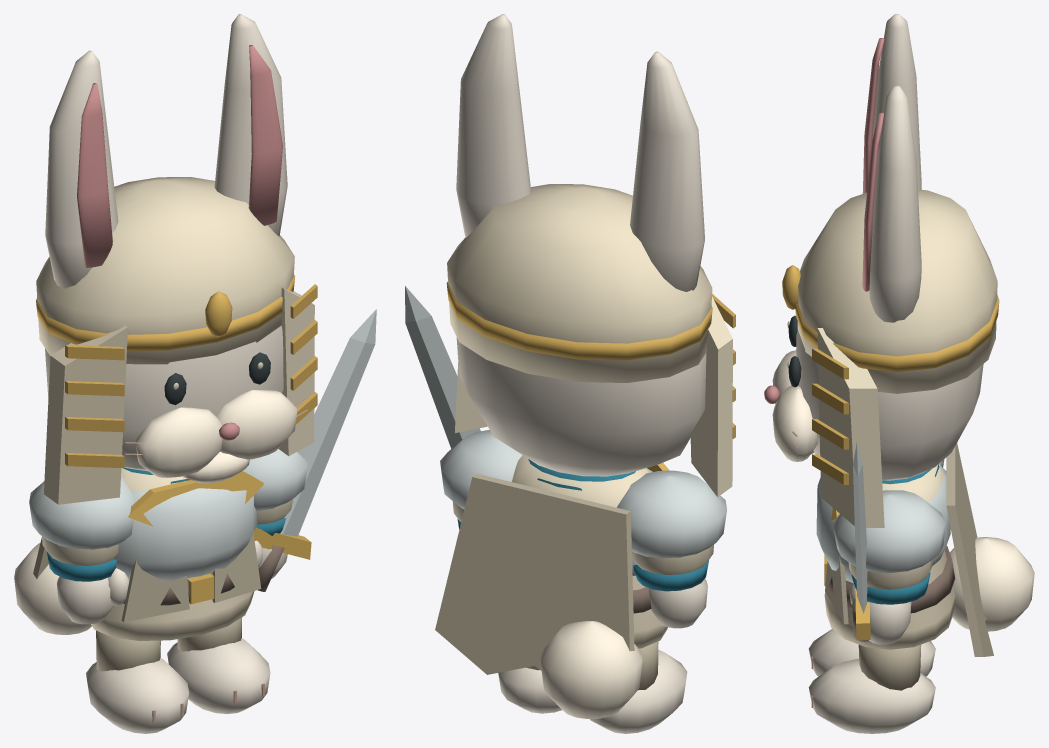
File: knight.glb
3 views of the same model, side by side, from view 1: azimuth 30°, elevation 25°; view 2: azimuth 150°, elevation 25°; view 3: azimuth 270°, elevation 25° (orthographic). The views are drawn at different scales.
Parts seen in each view (by area): view 1: Striped nemes crown, Rounded breastplate, Nemes shoulder wing, Animal cheek head, Rabbit long soft ear, Rabbit long soft ear.001, Soft animal paw, Shaped bevel sword, Soft animal paw.001, Short folded tunic, Big shoulder armour, Rabbit round cheek (+25 smaller); view 2: Striped nemes crown, Short scalloped cape, Animal cheek head, Rabbit long soft ear, Rabbit long soft ear.001, Rabbit cotton tail, Big shoulder armour, Nemes shoulder wing, Nemes front band, Shaped bevel sword, Short folded tunic, Big shoulder armour.001 (+8 smaller); view 3: Striped nemes crown, Rabbit long soft ear.001, Animal cheek head, Nemes shoulder wing.001, Soft animal paw.001, Big shoulder armour.001, Rabbit cotton tail, Short scalloped cape, Short folded tunic, Rabbit long soft ear, Nemes front band, Rabbit round cheek.001 (+18 smaller).
Part boxes in pixels (x1=…): Striped nemes crown: x1=36, y1=177, x2=294, y2=364; Rounded breastplate: x1=113, y1=488, x2=257, y2=580; Nemes shoulder wing: x1=44, y1=325, x2=127, y2=504; Animal cheek head: x1=45, y1=325, x2=283, y2=471; Rabbit long soft ear: x1=45, y1=50, x2=118, y2=288; Rabbit long soft ear.001: x1=214, y1=14, x2=287, y2=236; Soft animal paw: x1=86, y1=658, x2=189, y2=733; Shaped bevel sword: x1=280, y1=309, x2=376, y2=536; Soft animal paw.001: x1=167, y1=638, x2=270, y2=713; Short folded tunic: x1=91, y1=468, x2=254, y2=640; Big shoulder armour: x1=29, y1=477, x2=134, y2=549; Rabbit round cheek: x1=135, y1=407, x2=222, y2=477; Striped nemes crown: x1=447, y1=184, x2=712, y2=382; Short scalloped cape: x1=435, y1=473, x2=634, y2=674; Animal cheek head: x1=456, y1=337, x2=706, y2=476; Rabbit long soft ear: x1=630, y1=51, x2=704, y2=291; Rabbit long soft ear.001: x1=456, y1=14, x2=531, y2=237; Rabbit cotton tail: x1=540, y1=621, x2=642, y2=718; Big shoulder armour: x1=617, y1=470, x2=726, y2=558; Nemes shoulder wing: x1=690, y1=296, x2=732, y2=496; Nemes front band: x1=446, y1=281, x2=712, y2=360; Shaped bevel sword: x1=405, y1=286, x2=480, y2=448; Short folded tunic: x1=512, y1=455, x2=667, y2=648; Big shoulder armour.001: x1=440, y1=429, x2=522, y2=509; Striped nemes crown: x1=797, y1=189, x2=997, y2=393; Rabbit long soft ear.001: x1=869, y1=85, x2=921, y2=322; Animal cheek head: x1=796, y1=329, x2=983, y2=480; Nemes shoulder wing.001: x1=817, y1=328, x2=884, y2=527; Soft animal paw.001: x1=808, y1=659, x2=935, y2=733; Big shoulder armour.001: x1=833, y1=490, x2=945, y2=572; Rabbit cotton tail: x1=950, y1=537, x2=1034, y2=631; Short scalloped cape: x1=946, y1=443, x2=993, y2=656; Short folded tunic: x1=824, y1=464, x2=955, y2=649; Rabbit long soft ear: x1=872, y1=14, x2=921, y2=189; Nemes front band: x1=795, y1=295, x2=999, y2=372; Rabbit round cheek.001: x1=772, y1=385, x2=817, y2=461.
Size of the model in its own units: 1.04 by 2.06 by 0.766.
